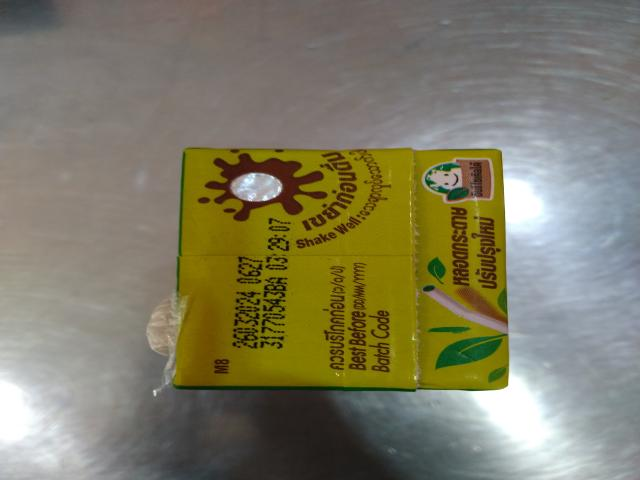drink_box: (143, 139, 555, 432)
